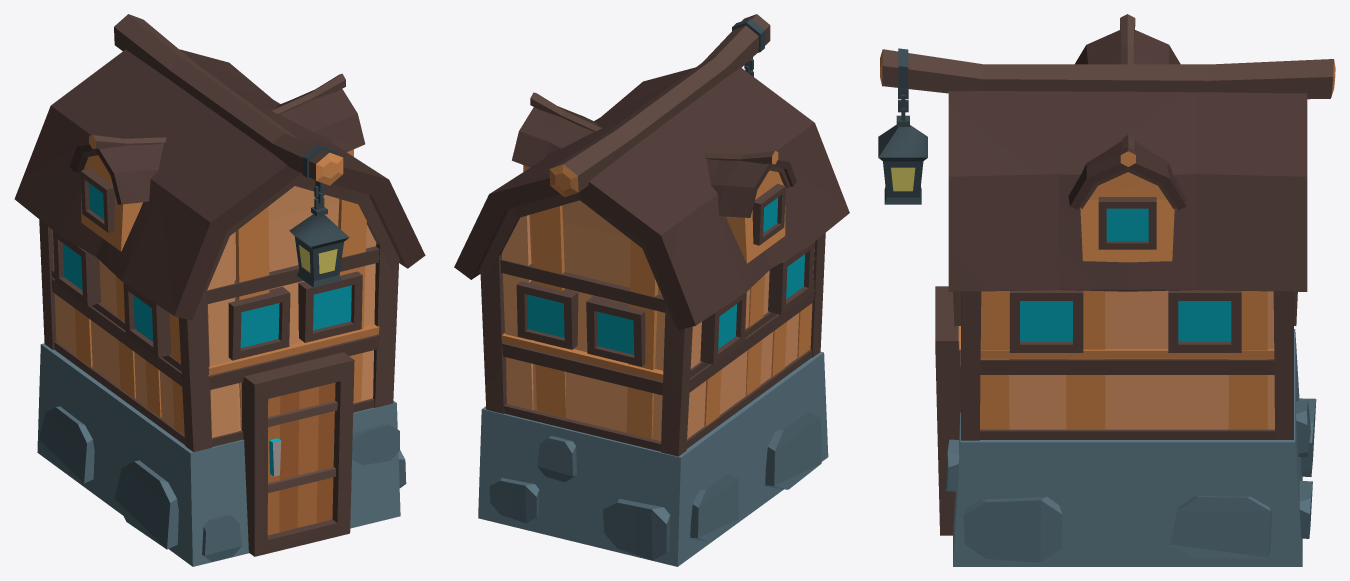
Rendered from House_1-3.fbx.
3 views of the same model, side by side, from view 1: azimuth 30°, elevation 25°; view 2: azimuth 150°, elevation 25°; view 3: azimuth 270°, elevation 25° (orthographic). The views are drawn at different scales.
Visible parts, largest first — view 1: Village_BG_Bd_Dock01_A.003; view 2: Village_BG_Bd_Dock01_A.003; view 3: Village_BG_Bd_Dock01_A.003.
Part boxes in pixels (box(x1,y1,x2,y2)): Village_BG_Bd_Dock01_A.003: box(14, 14, 425, 566); Village_BG_Bd_Dock01_A.003: box(454, 14, 849, 566); Village_BG_Bd_Dock01_A.003: box(878, 14, 1335, 566).
Bounding box in the file's own units: 321 × 496 × 445.
